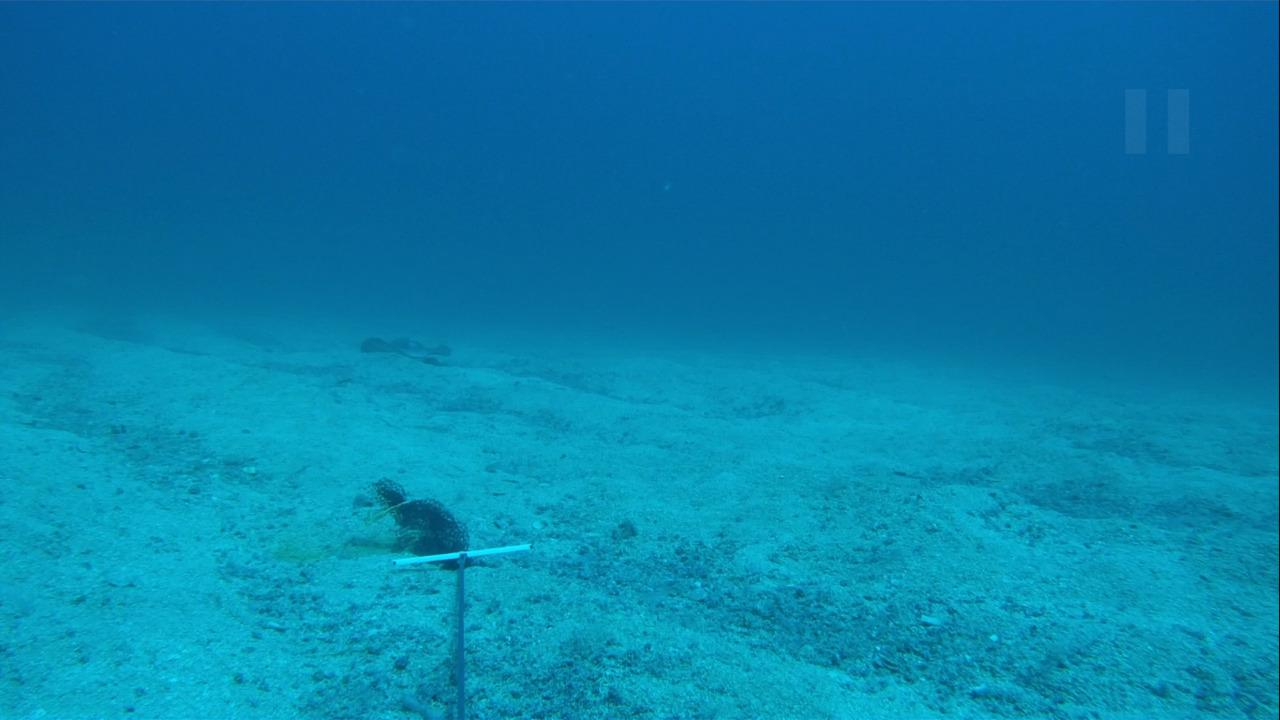myliobatis: (306, 319, 453, 368)
